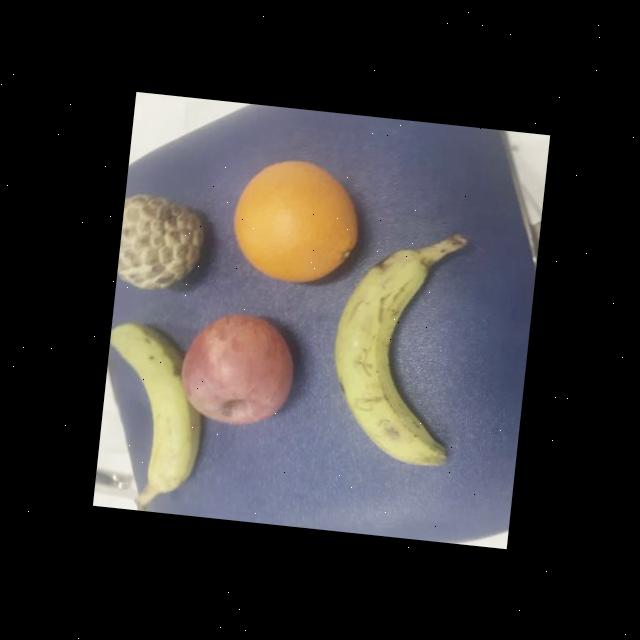Sakya fruit: (115, 184, 206, 296)
apple: (172, 306, 302, 435)
banana: (317, 238, 471, 474), (94, 311, 216, 497)
orange: (223, 148, 364, 294)
